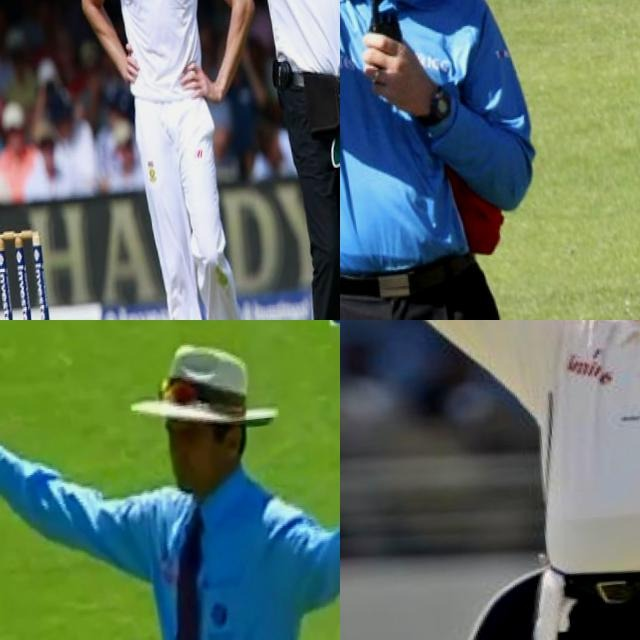No_Ball: (136, 0, 340, 320)
Out: (340, 0, 567, 320)
Six: (340, 320, 640, 640)
Wide: (0, 320, 340, 640)
